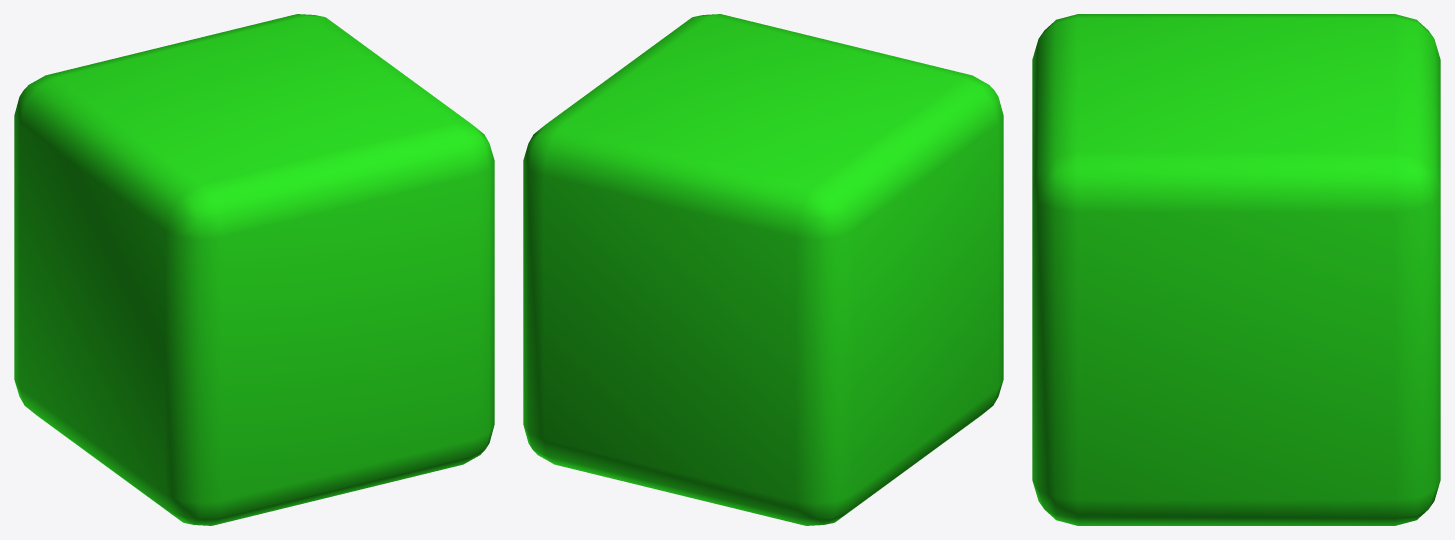
File: greencube.fbx
3 views of the same model, side by side, from view 1: azimuth 30°, elevation 25°; view 2: azimuth 150°, elevation 25°; view 3: azimuth 270°, elevation 25° (orthographic). The views are drawn at different scales.
Parts seen in each view (by area): view 1: Cube; view 2: Cube; view 3: Cube.
Boxes of the visible parts, x1,y1,x2,y2 form: Cube: (14, 14, 494, 525); Cube: (523, 14, 1003, 525); Cube: (1032, 14, 1440, 525).
Size of the model in its own units: 159 by 159 by 159.
